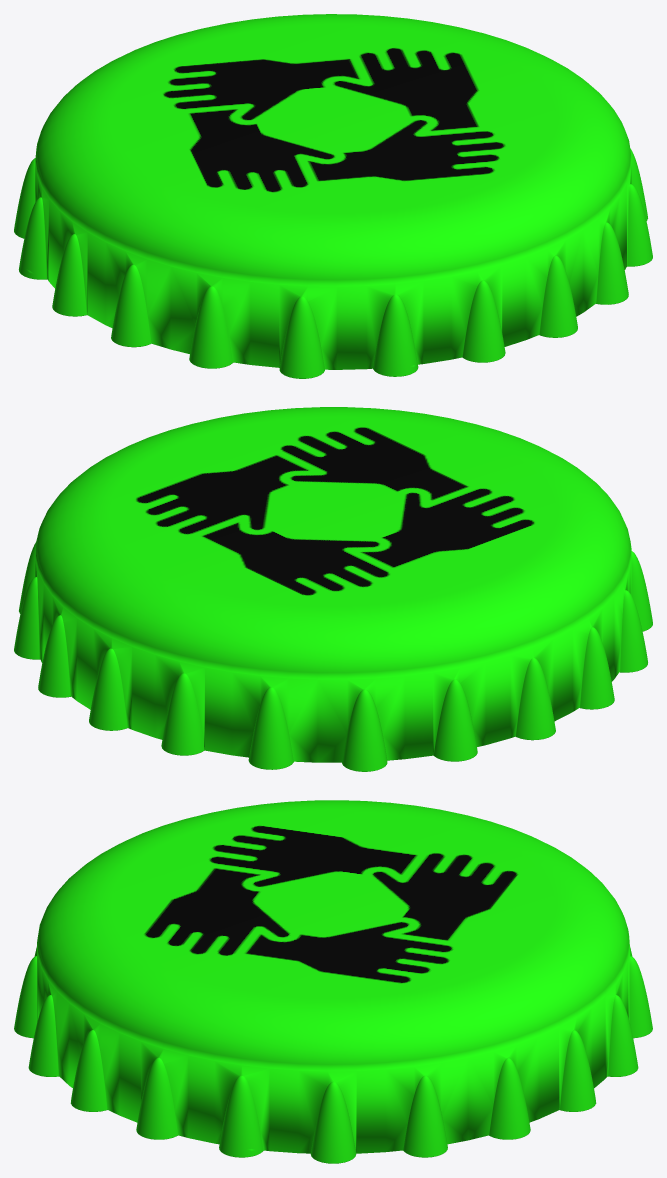
Rendered from ChapaV.glb.
3 views of the same model, one above another, from view 1: azimuth 30°, elevation 25°; view 2: azimuth 150°, elevation 25°; view 3: azimuth 270°, elevation 25° (orthographic).
Visible parts, largest first — view 1: bottle_cap_blank; view 2: bottle_cap_blank; view 3: bottle_cap_blank.
Boxes of the visible parts, bbox=[...] form: bottle_cap_blank: bbox=[14, 14, 652, 378]; bottle_cap_blank: bbox=[14, 407, 652, 771]; bottle_cap_blank: bbox=[14, 800, 652, 1163].
Bounding box in the file's own units: 28 × 6 × 28.
1 material, 1 textured.
